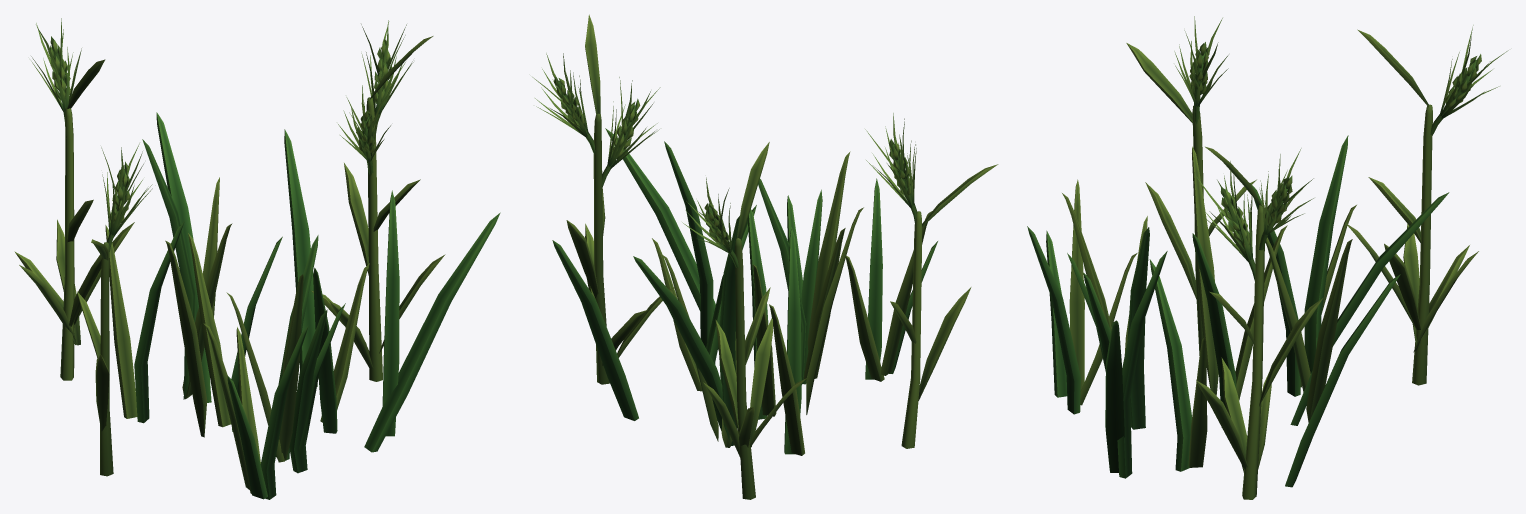
Rendered from SM_Plant_Barley_Lv2.fbx.
3 renders of one model, left to right at view 1: azimuth 30°, elevation 25°; view 2: azimuth 150°, elevation 25°; view 3: azimuth 270°, elevation 25°, orthographic. The views are drawn at different scales.
Parts seen in each view (by area): view 1: SM_Plant_Barley_Lv2; view 2: SM_Plant_Barley_Lv2; view 3: SM_Plant_Barley_Lv2.
Part boxes in pixels (x1,y1,x2,y2): SM_Plant_Barley_Lv2: [14, 18, 500, 499]; SM_Plant_Barley_Lv2: [532, 14, 998, 499]; SM_Plant_Barley_Lv2: [1027, 16, 1508, 499].
Size of the model in its own units: 56.52 by 48.43 by 55.43.
